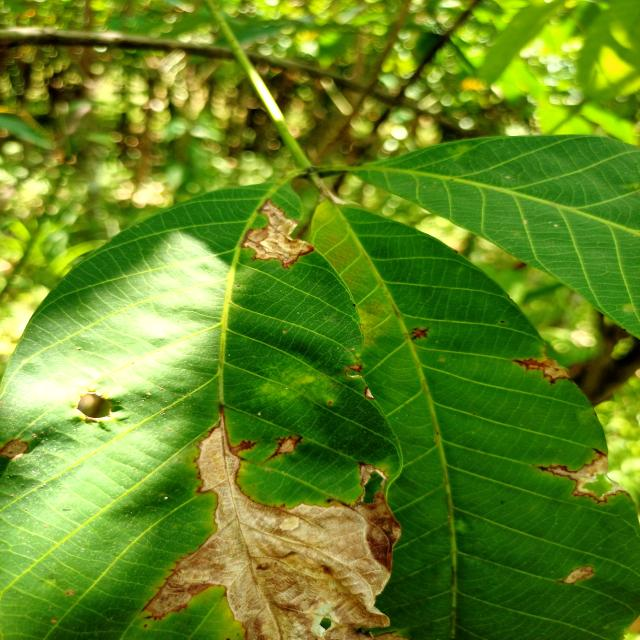Corynespora: (260, 432, 303, 465), (536, 463, 576, 480), (512, 357, 546, 372), (230, 440, 259, 454), (544, 374, 571, 386), (410, 326, 431, 340), (591, 446, 606, 456)
Leaf-Blight: (142, 414, 410, 640), (245, 201, 310, 264), (578, 454, 628, 501), (562, 565, 594, 584), (0, 438, 28, 458), (546, 359, 572, 377), (366, 389, 374, 398)
